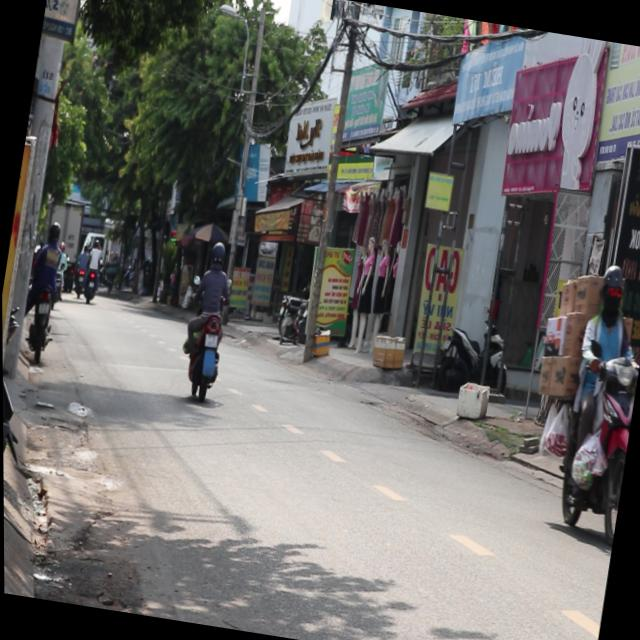helmet: (597, 263, 630, 320)
licenseplate: (510, 253, 640, 551)
